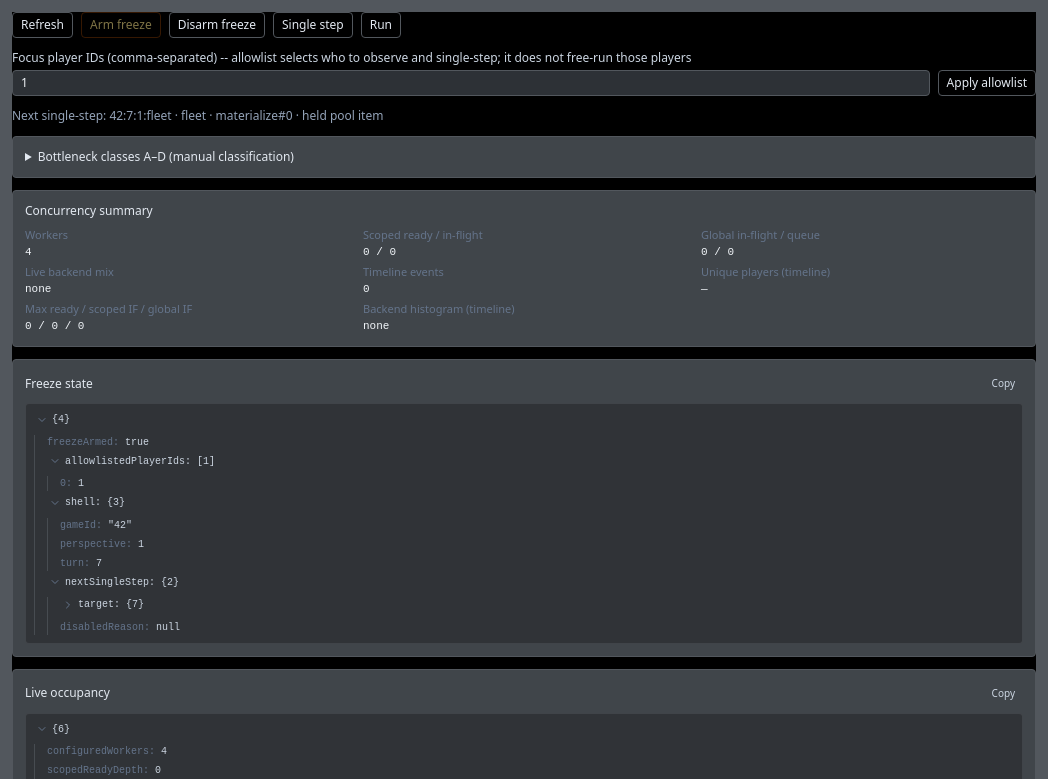
Scenario: DiagnosticsComputeTab › Run stops with an error when single-step keeps returning the same would_dispatch target
Click the button with test id "compute-diagnostics-run" at (381, 25), box [361,12,401,38]
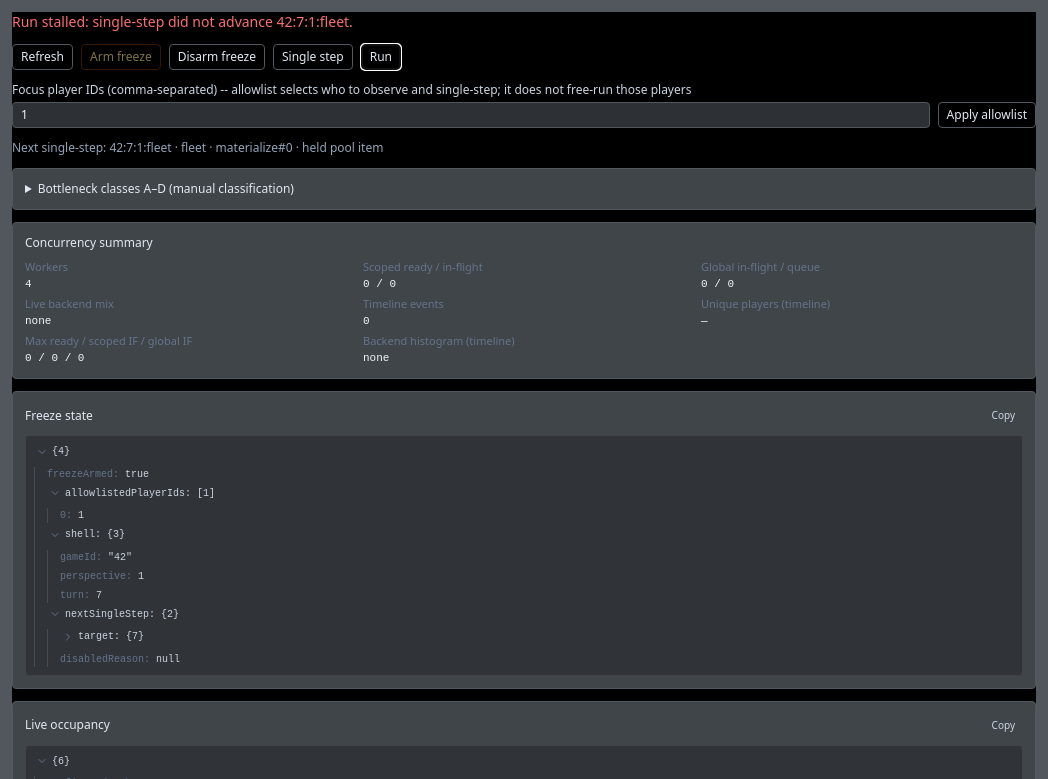
Expected: the button with test id "compute-diagnostics-run" reads "Run", [361,44,401,70]
Now the message shows "Run stalled", box [12,12,353,31]
